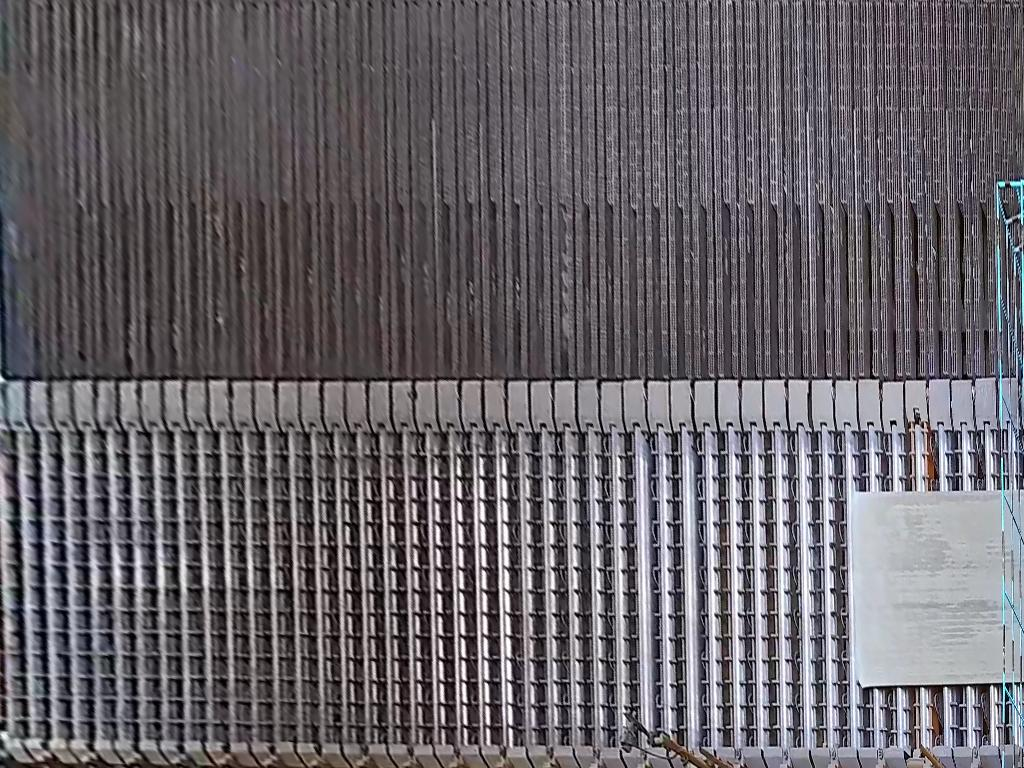steel: (842, 490, 1024, 690)
